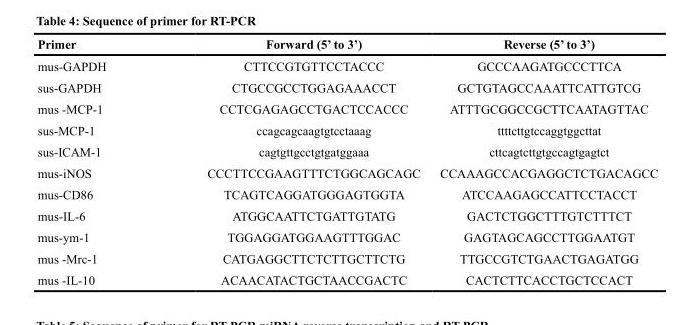table: (36, 36, 657, 286)
table column: (155, 36, 429, 286), (429, 36, 657, 286), (36, 36, 155, 286)
table column header: (36, 36, 657, 54)
table row: (36, 54, 657, 76), (36, 97, 657, 119), (36, 161, 657, 183), (36, 204, 657, 226), (36, 76, 657, 97), (36, 119, 657, 140), (36, 140, 657, 161), (36, 183, 657, 204), (36, 226, 657, 247), (36, 247, 657, 268), (36, 36, 657, 54), (36, 268, 657, 286)
